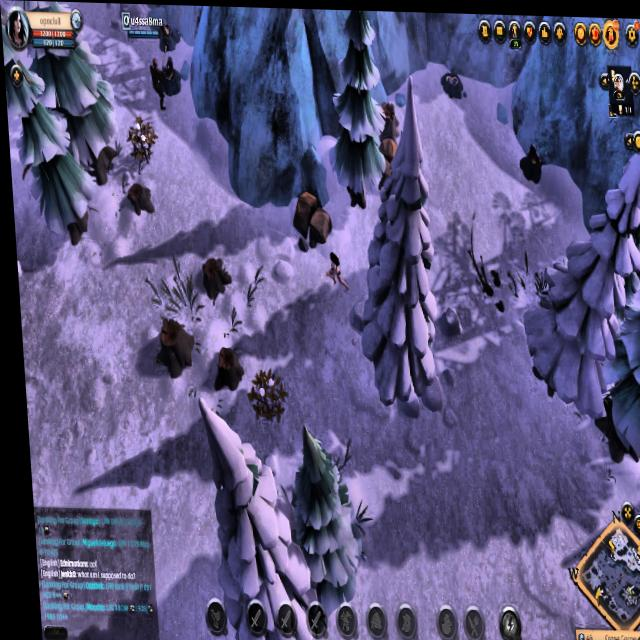copper_ore: (511, 143, 554, 186)
cotton: (243, 372, 288, 423), (124, 122, 164, 162)
limestone: (286, 181, 334, 249)
